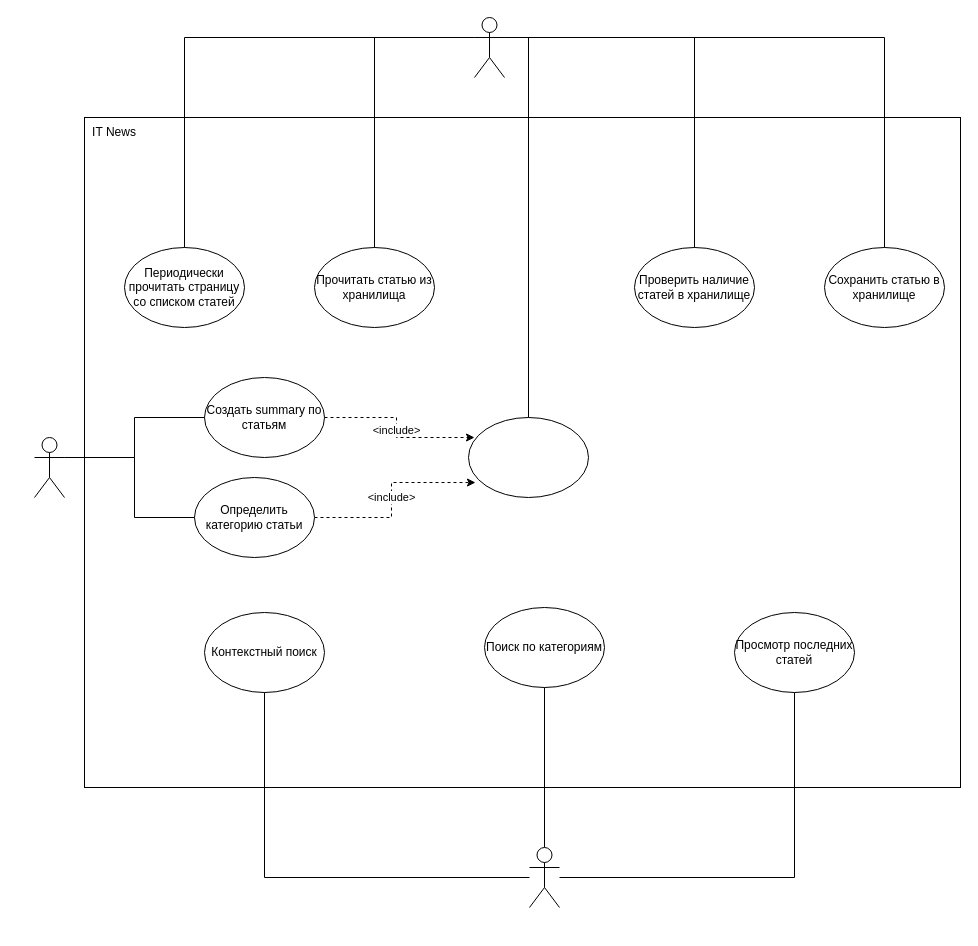
Some shapes in this 978 by 946 pixel diagram are drawn without their labels. The centre of each missing label's shape, as x and y in pixels:
"AI ChatGPT" belongs at pixel 49 467.
"Прочитать статью" belongs at pixel 528 457.
"Сервис" belongs at pixel 489 47.
"Читатель" belongs at pixel 544 877.
